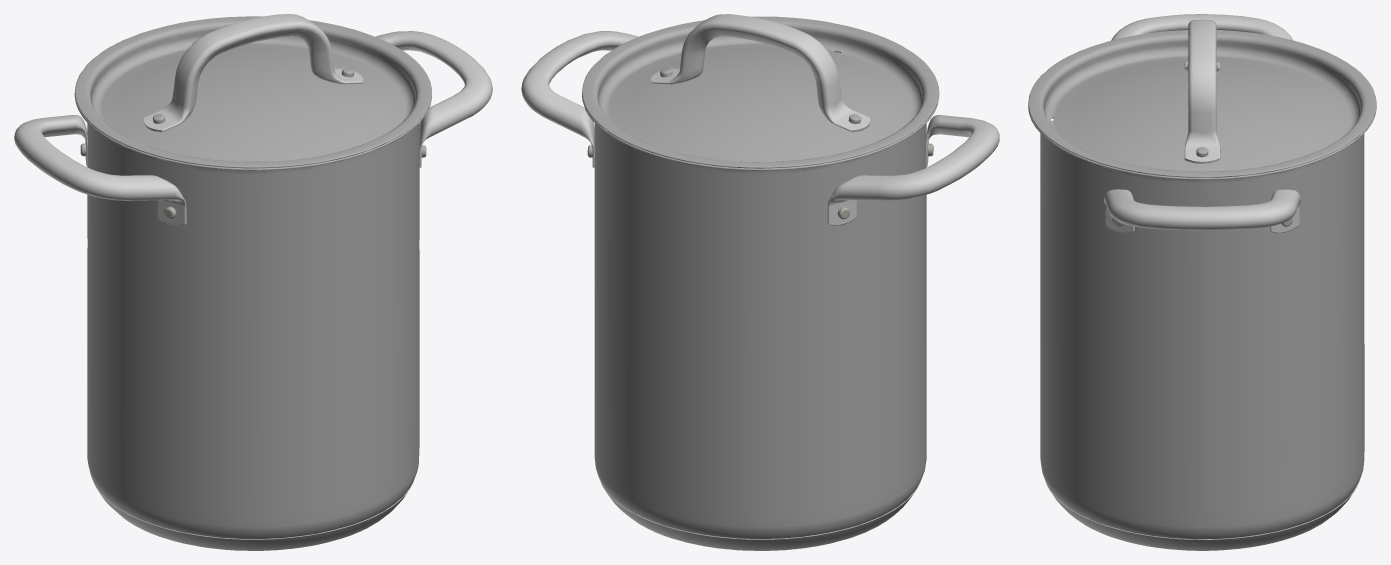
The model's file is ikea_365_garnek_z_wkadem_40484294.glb.
The picture shows the model from 3 angles, left to right: view 1: azimuth 30°, elevation 25°; view 2: azimuth 150°, elevation 25°; view 3: azimuth 270°, elevation 25°; orthographic projection. The views are drawn at different scales.
Visible parts, largest first — view 1: ikea_365_garnek_z_wkadem_40484294; view 2: ikea_365_garnek_z_wkadem_40484294; view 3: ikea_365_garnek_z_wkadem_40484294.
Part boxes in pixels (left/top/right/bottom): ikea_365_garnek_z_wkadem_40484294: left=14, top=14, right=492, bottom=550; ikea_365_garnek_z_wkadem_40484294: left=521, top=14, right=999, bottom=550; ikea_365_garnek_z_wkadem_40484294: left=1028, top=14, right=1376, bottom=550.
Size of the model in its own units: 0.257 by 0.2652 by 0.1842.
1 material, 1 textured.
